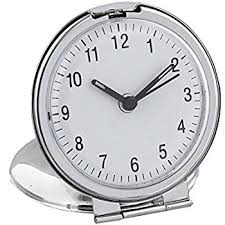alarm_clock: (10, 0, 221, 221), (17, 0, 221, 221)
